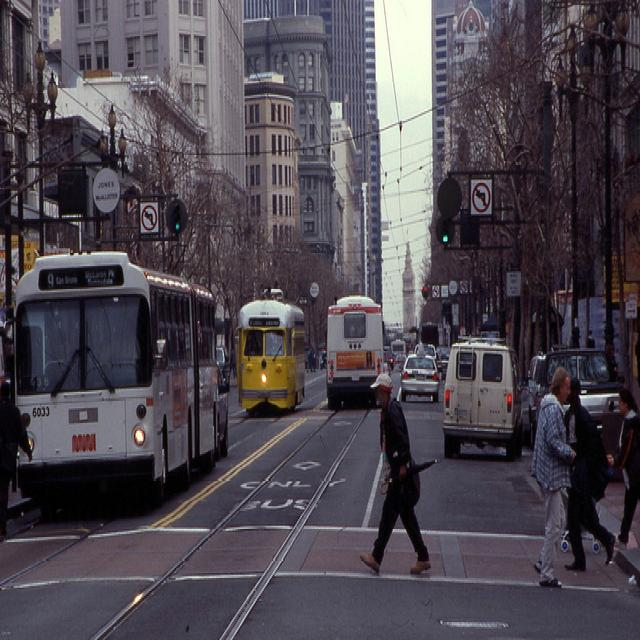Vehicle: (12, 254, 220, 522), (440, 338, 524, 462), (534, 344, 624, 451), (328, 293, 387, 407), (400, 340, 440, 402), (528, 352, 548, 448), (435, 345, 451, 373), (391, 338, 406, 365), (413, 345, 438, 358)
